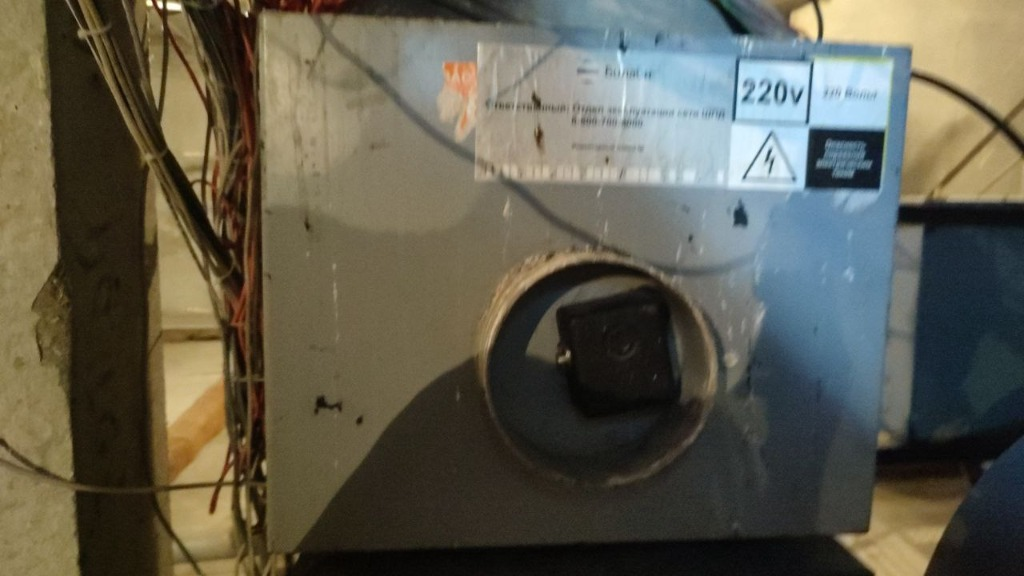shta-3: (256, 5, 915, 549)
